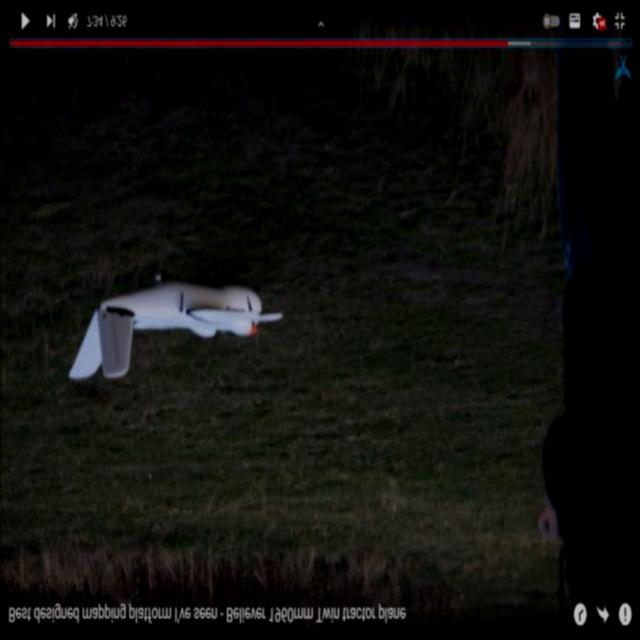plane: (65, 271, 282, 382)
